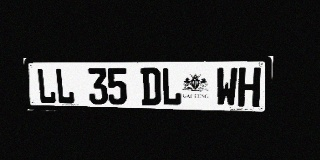3: (88, 68, 108, 105)
5: (107, 68, 127, 105)
D: (141, 68, 161, 106)
H: (237, 67, 261, 107)
L: (161, 68, 182, 106), (36, 68, 57, 104), (55, 68, 75, 104)
W: (216, 67, 238, 107)
